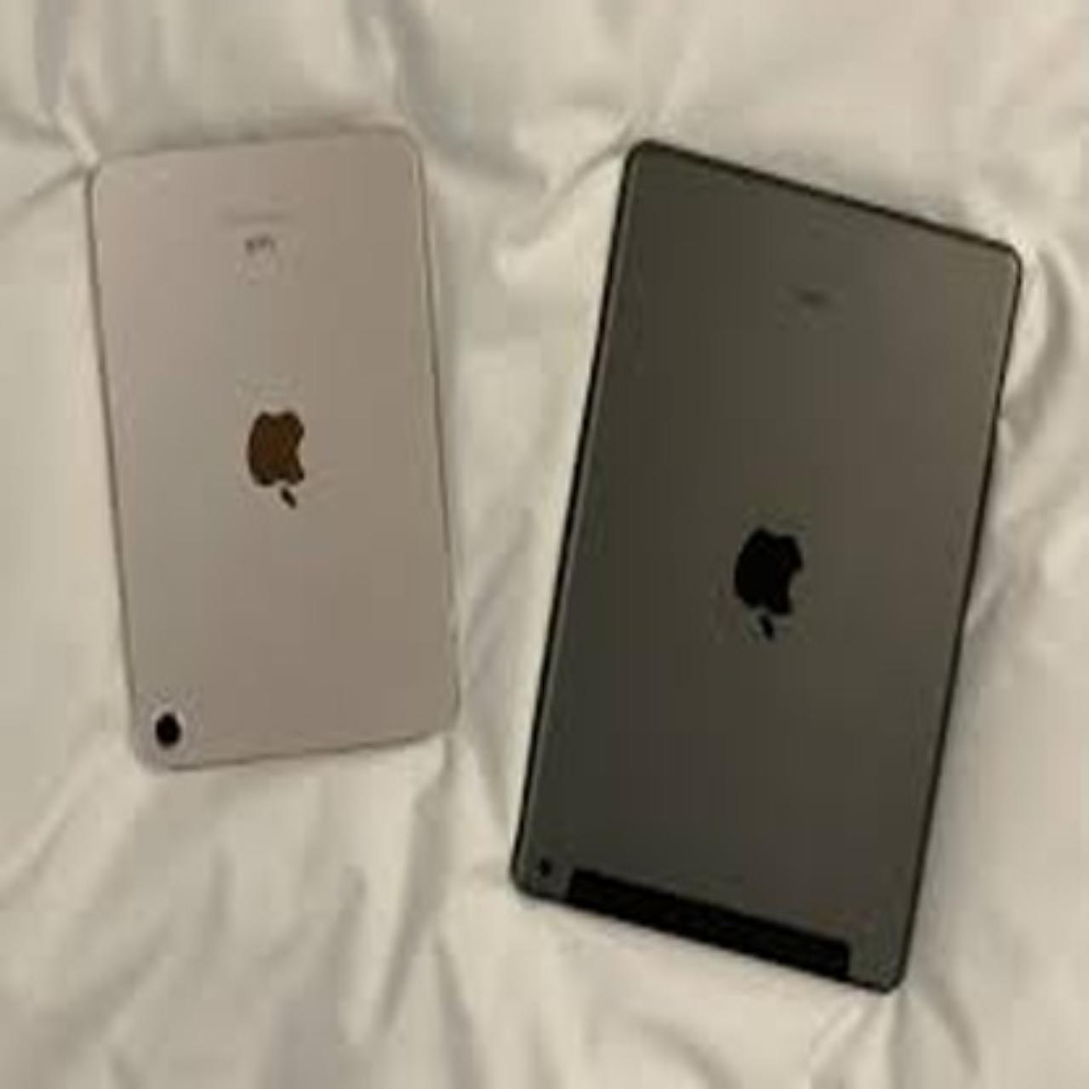Tablet_PC: (498, 117, 1029, 1002), (81, 102, 458, 788)
